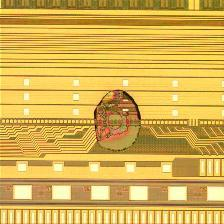COATING BAD: (83, 84, 155, 156)
